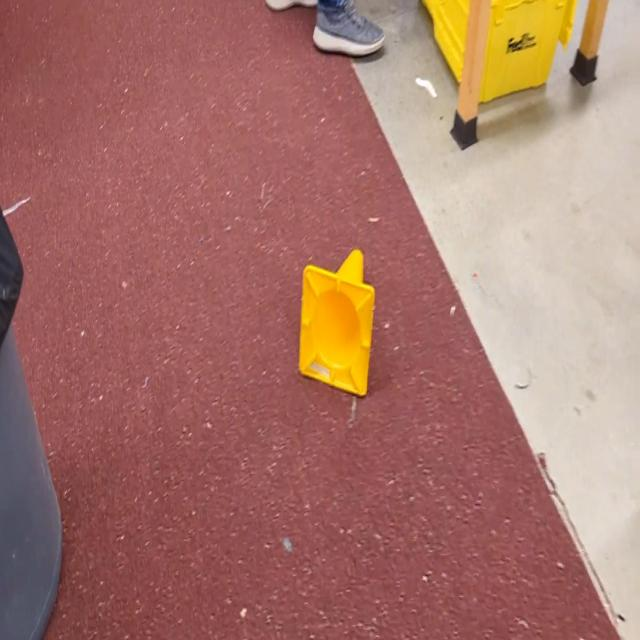frc_cone: (298, 249, 375, 396)
